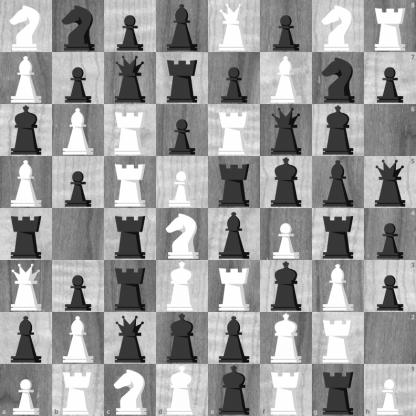B: (1, 53, 52, 104), (1, 157, 52, 208), (53, 105, 104, 156), (53, 313, 104, 364), (261, 53, 312, 104), (313, 261, 364, 312)
K: (156, 364, 209, 416), (157, 261, 208, 312), (261, 313, 312, 364)
N: (104, 364, 156, 416), (1, 1, 52, 52), (157, 209, 208, 260), (313, 1, 364, 52)
P: (0, 364, 52, 416), (364, 364, 416, 416), (157, 157, 208, 208), (261, 209, 312, 260)
Q: (1, 261, 52, 312), (209, 1, 260, 52)
R: (52, 364, 104, 416), (260, 364, 312, 416), (364, 0, 416, 52), (105, 105, 156, 156), (105, 157, 156, 208), (209, 105, 260, 156), (209, 261, 260, 312), (313, 313, 364, 364)
b: (1, 313, 52, 364), (157, 1, 208, 52), (209, 209, 260, 260), (209, 313, 260, 364), (313, 157, 364, 208)
board: (0, 0, 415, 415)
k: (209, 364, 260, 416), (1, 105, 52, 156), (157, 313, 208, 364), (261, 157, 312, 208), (261, 261, 312, 312), (313, 105, 364, 156)
n: (53, 1, 104, 52), (313, 53, 364, 104)
p: (364, 52, 416, 104), (364, 260, 416, 312), (364, 209, 416, 260), (53, 53, 104, 104), (53, 157, 104, 208), (53, 261, 104, 312), (105, 1, 156, 52), (157, 105, 208, 156), (209, 53, 260, 104), (261, 1, 312, 52)
q: (364, 156, 416, 209), (105, 53, 156, 104), (105, 313, 156, 364), (261, 105, 312, 156)
r: (312, 364, 364, 416), (1, 209, 52, 260), (105, 209, 156, 260), (105, 261, 156, 312), (157, 53, 208, 104), (209, 157, 260, 208), (313, 209, 364, 260)
